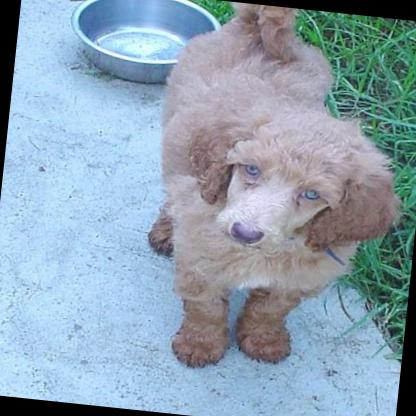standard_poodle: (133, 0, 416, 385)
